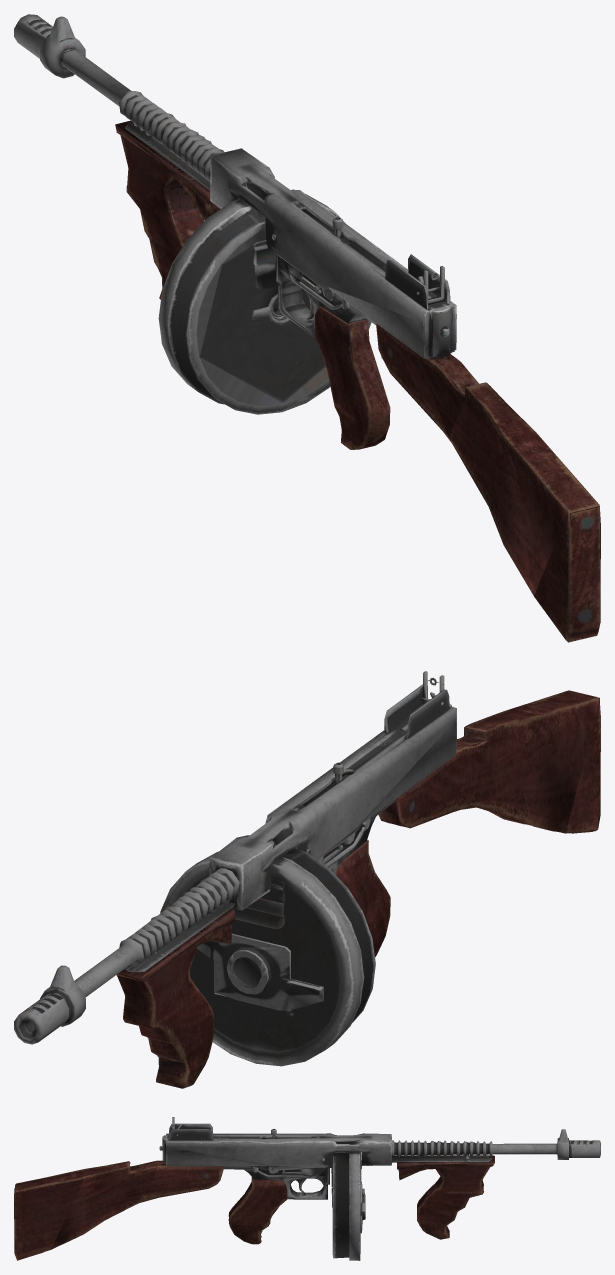
File: thomson.gltf
3 renders of one model, top to bottom at view 1: azimuth 30°, elevation 25°; view 2: azimuth 150°, elevation 25°; view 3: azimuth 270°, elevation 25°, orthographic. The views are drawn at different scales.
Parts seen in each view (by area): view 1: Low_poly.002; view 2: Low_poly.002; view 3: Low_poly.002.
Boxes of the visible parts, x1=… form: Low_poly.002: x1=14, y1=14, x2=600, y2=642; Low_poly.002: x1=14, y1=671, x2=600, y2=1088; Low_poly.002: x1=14, y1=1117, x2=600, y2=1260.
Bounding box in the file's own units: 1.95 × 2.49 × 9.62.
1 material, 1 textured.
